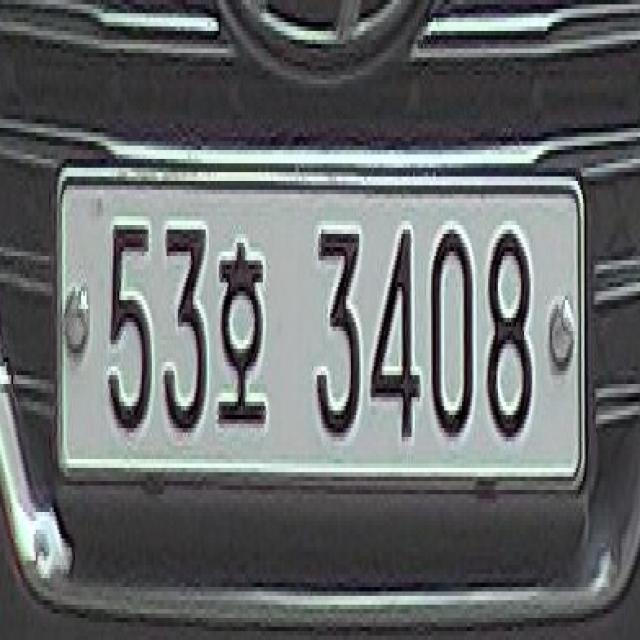0: (429, 207, 480, 446)
3: (307, 198, 364, 476), (155, 190, 209, 437)
4: (364, 199, 425, 450)
5: (105, 203, 156, 437)
8: (482, 212, 542, 459)
ho: (214, 212, 277, 459)
license_plate: (52, 150, 596, 512)
